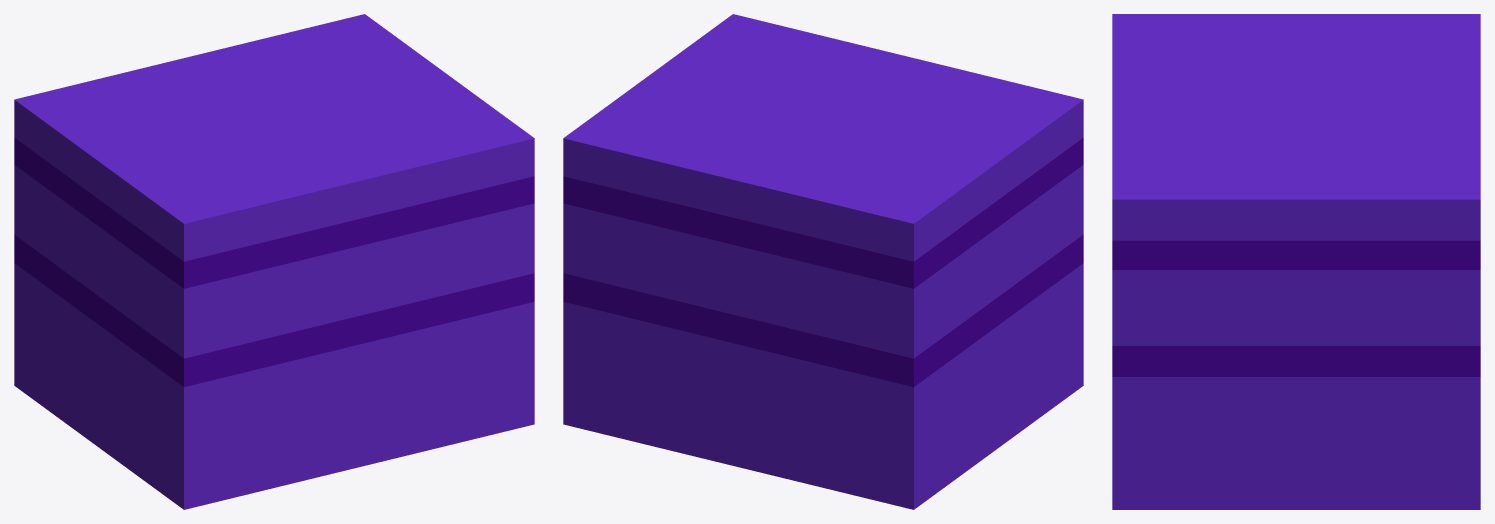
File: Building_010.fbx
3 views of the same model, side by side, from view 1: azimuth 30°, elevation 25°; view 2: azimuth 150°, elevation 25°; view 3: azimuth 270°, elevation 25° (orthographic). The views are drawn at different scales.
Visible parts, largest first — view 1: Building_010; view 2: Building_010; view 3: Building_010.
Boxes of the visible parts, <box> form: Building_010: <box>14,14,534,509</box>; Building_010: <box>563,14,1083,509</box>; Building_010: <box>1112,14,1480,509</box>.
Size of the model in its own units: 24.21 by 18.87 by 20.31.
